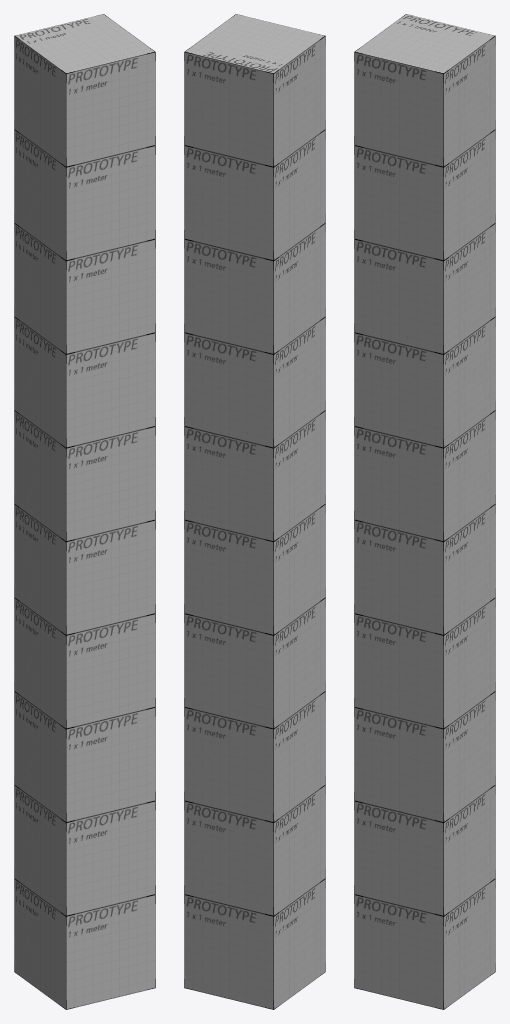
Rendered from Scale_Vertical.FBX.
3 renders of one model, left to right at view 1: azimuth 30°, elevation 25°; view 2: azimuth 150°, elevation 25°; view 3: azimuth 330°, elevation 25°, orthographic.
Parts seen in each view (by area): view 1: Box002; view 2: Box002; view 3: Box002.
Part boxes in pixels (x1,y1,x2,y2): Box002: (14,14,155,1009); Box002: (184,14,325,1009); Box002: (354,14,495,1009).
Bounding box in the file's own units: 100 × 1000 × 100.
